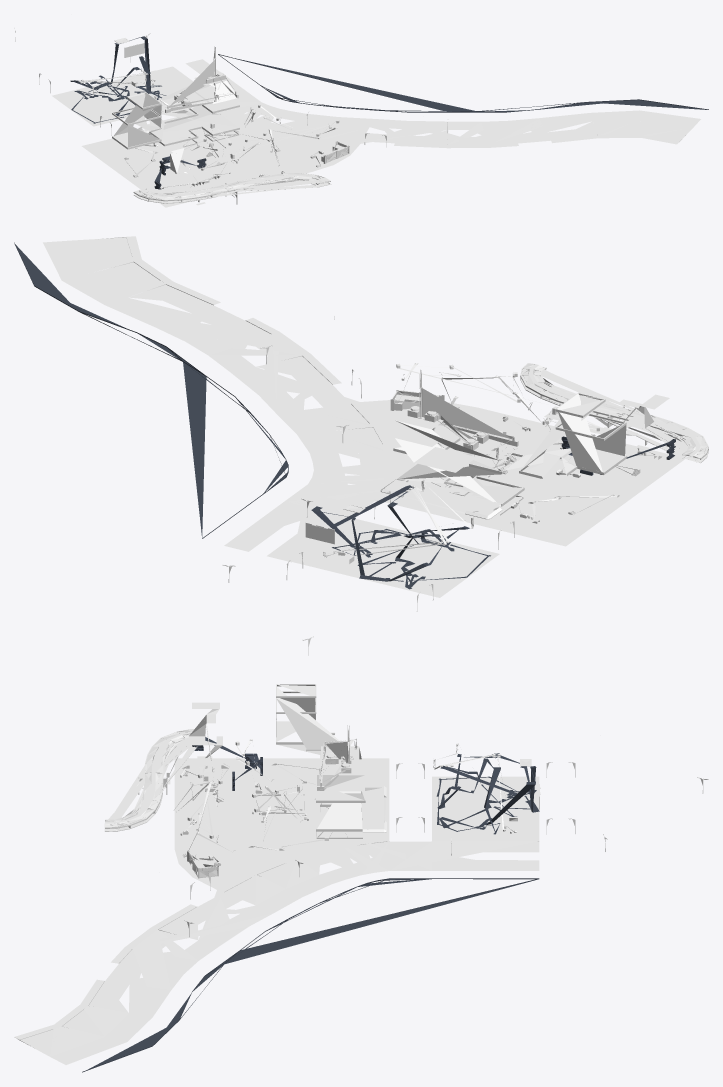
The model's file is street_island2_11.glb.
The picture shows the model from 3 angles, top to bottom: view 1: azimuth 30°, elevation 25°; view 2: azimuth 150°, elevation 25°; view 3: azimuth 270°, elevation 25°; orthographic projection. The views are drawn at different scales.
Parts seen in each view (by area): view 1: seg_405, seg_429, seg_973, seg_416, seg_1017, seg_817, seg_826, seg_999, seg_570, seg_711, seg_609, seg_701 (+3 smaller); view 2: seg_405, seg_429, seg_973, seg_416, seg_1017, seg_570, seg_999, seg_817, seg_826, seg_609, seg_569, seg_701 (+2 smaller); view 3: seg_405, seg_429, seg_416, seg_973, seg_1017, seg_999, seg_817, seg_570, seg_826, seg_711, seg_569.
Boxes of the visible parts, x1=… form: seg_405: x1=150, y1=59, x2=700, y2=148; seg_429: x1=81, y1=120, x2=359, y2=207; seg_973: x1=112, y1=92, x2=239, y2=149; seg_416: x1=52, y1=72, x2=175, y2=126; seg_1017: x1=218, y1=54, x2=708, y2=112; seg_817: x1=133, y1=172, x2=330, y2=201; seg_826: x1=134, y1=174, x2=330, y2=203; seg_999: x1=70, y1=36, x2=166, y2=123; seg_570: x1=157, y1=72, x2=236, y2=114; seg_711: x1=152, y1=145, x2=238, y2=176; seg_609: x1=154, y1=46, x2=236, y2=108; seg_701: x1=78, y1=70, x2=155, y2=94; seg_405: x1=43, y1=236, x2=397, y2=563; seg_429: x1=360, y1=400, x2=684, y2=546; seg_973: x1=393, y1=392, x2=626, y2=506; seg_416: x1=300, y1=520, x2=499, y2=597; seg_1017: x1=14, y1=242, x2=288, y2=538; seg_570: x1=395, y1=411, x2=522, y2=472; seg_999: x1=311, y1=485, x2=490, y2=589; seg_817: x1=520, y1=363, x2=708, y2=459; seg_826: x1=520, y1=364, x2=708, y2=463; seg_609: x1=410, y1=370, x2=514, y2=458; seg_569: x1=384, y1=479, x2=501, y2=513; seg_701: x1=323, y1=480, x2=473, y2=563; seg_405: x1=14, y1=837, x2=539, y2=1064; seg_429: x1=174, y1=758, x2=389, y2=889; seg_416: x1=432, y1=776, x2=539, y2=837; seg_973: x1=276, y1=684, x2=365, y2=831; seg_1017: x1=82, y1=878, x2=539, y2=1072; seg_999: x1=436, y1=753, x2=539, y2=834; seg_817: x1=105, y1=729, x2=194, y2=828; seg_570: x1=317, y1=746, x2=382, y2=791; seg_826: x1=104, y1=730, x2=197, y2=831; seg_711: x1=188, y1=702, x2=222, y2=783; seg_569: x1=362, y1=784, x2=383, y2=828.
Size of the model in its own units: 362 by 55.8 by 324.
